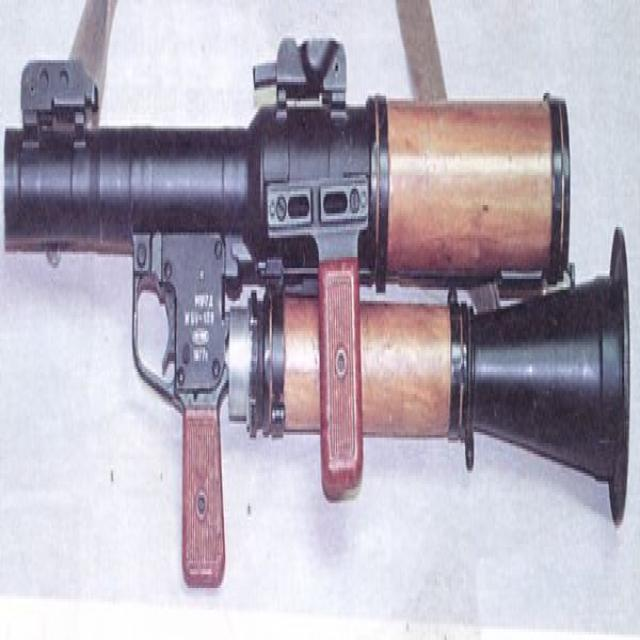Gun: (2, 27, 640, 588)
